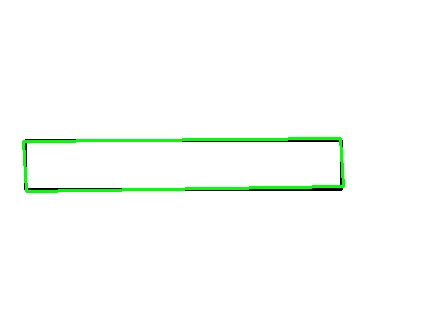line_segment: (23, 138, 344, 192)
